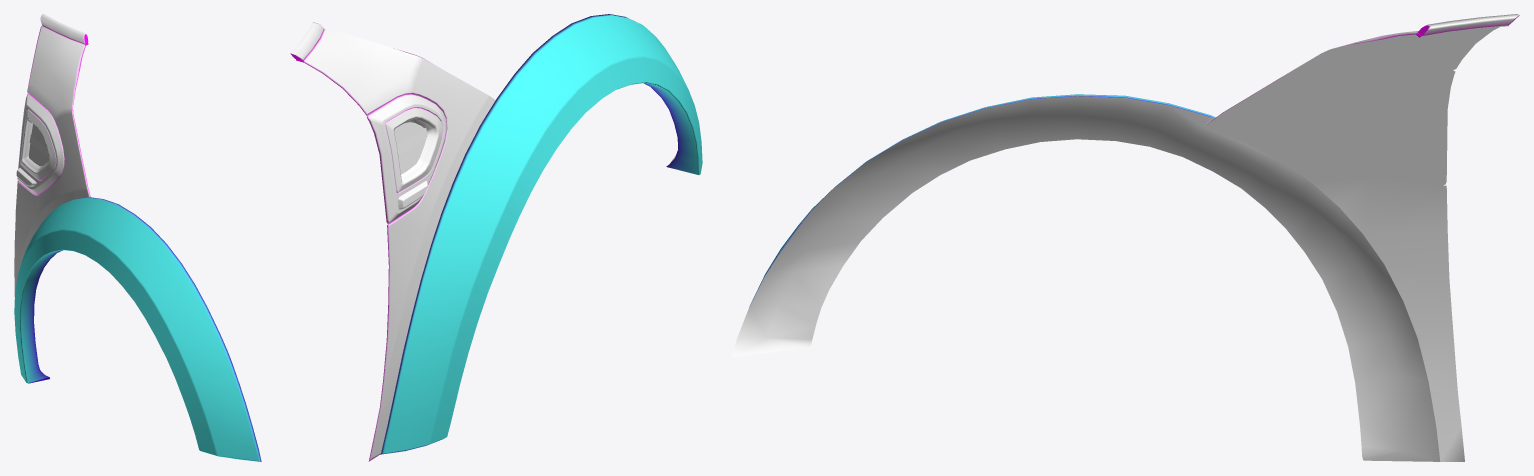
Rendered from Car_Mini_CountrymanJCW_2017_FenderFR_SetB.fbx.
The picture shows the model from 3 angles, left to right: view 1: azimuth 30°, elevation 25°; view 2: azimuth 150°, elevation 25°; view 3: azimuth 270°, elevation 25°; orthographic projection. The views are drawn at different scales.
Visible parts, largest first — view 1: FenderFR 6; view 2: FenderFR 6; view 3: FenderFR 6.
Part boxes in pixels (x1,y1,x2,y2): FenderFR 6: (14, 14, 261, 461); FenderFR 6: (290, 14, 702, 461); FenderFR 6: (731, 14, 1519, 461).
Size of the model in its own units: 0.2645 by 0.7502 by 1.12.
